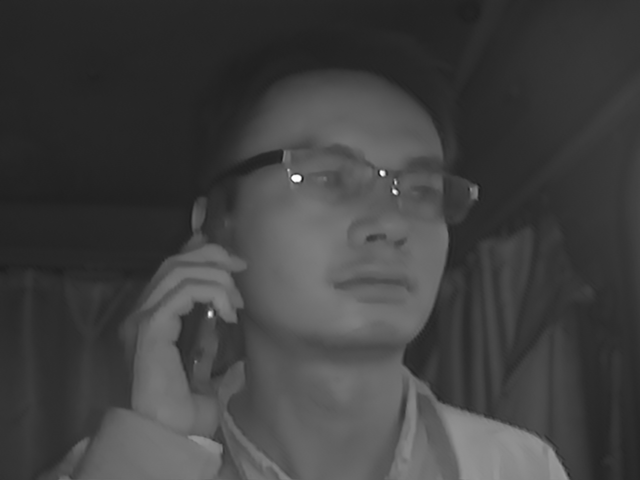hand: (118, 244, 246, 431)
